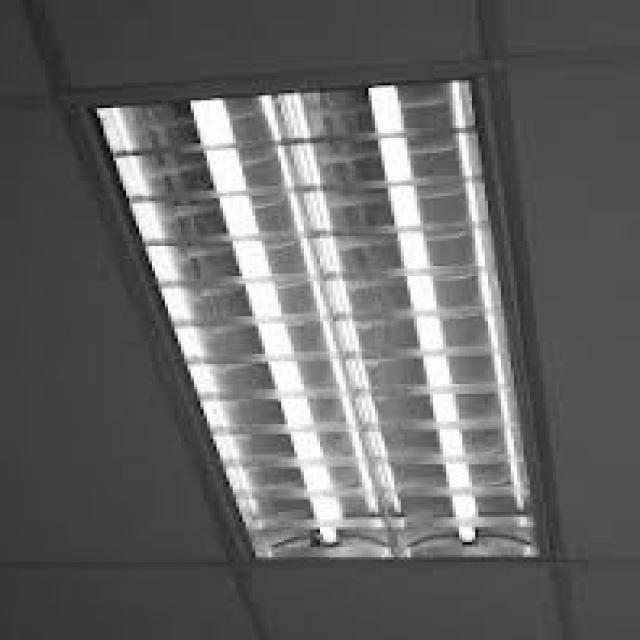light: (94, 74, 539, 557)
